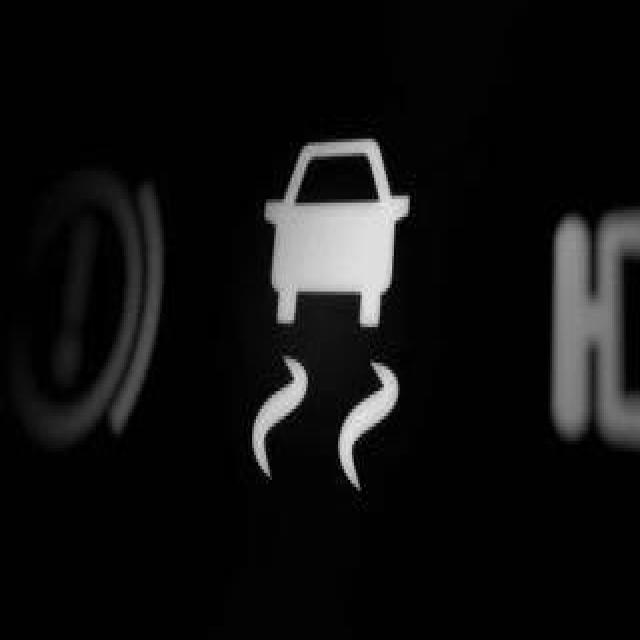kontrolka: (244, 128, 413, 519)
